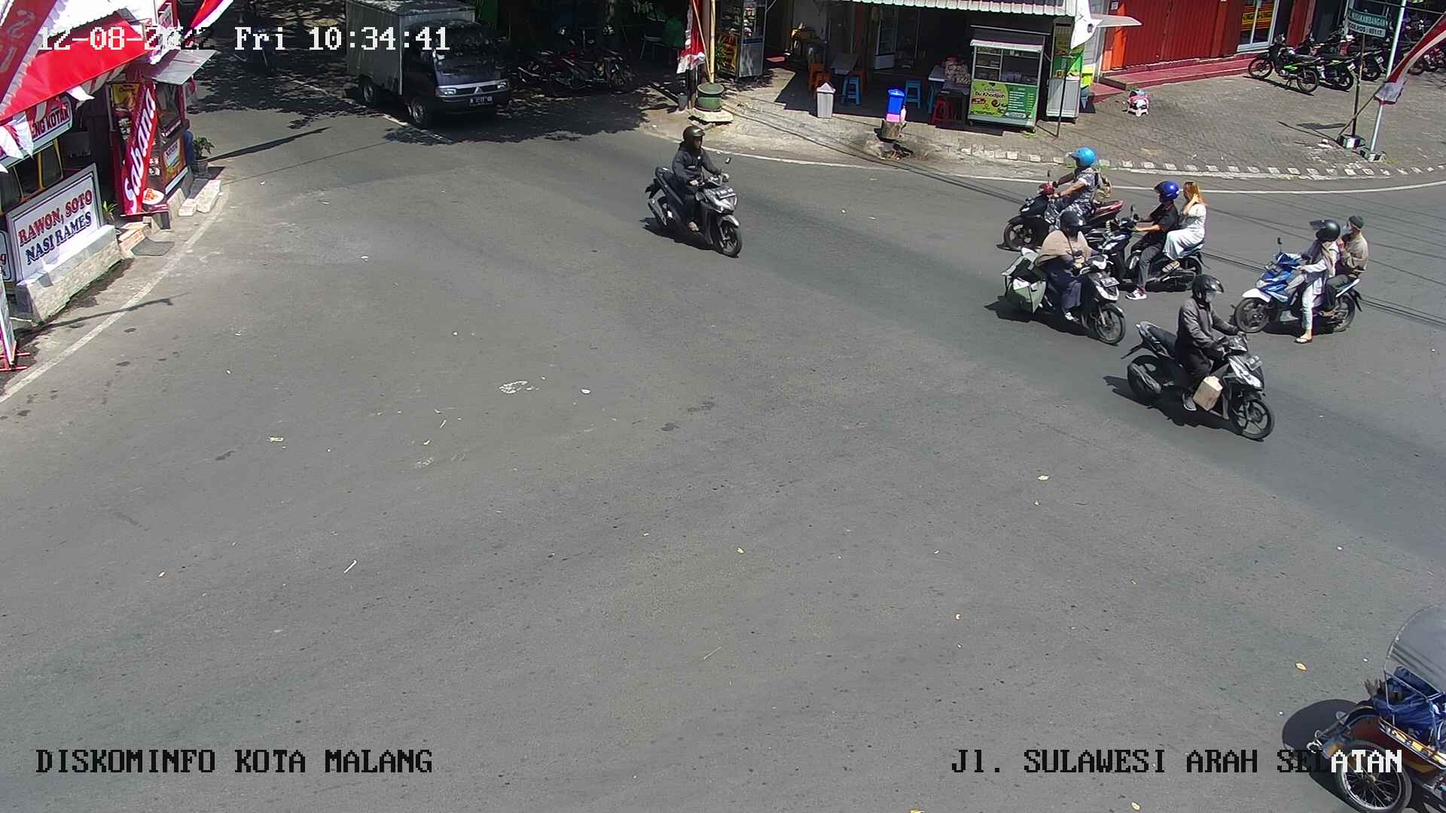with_helmet: (1121, 269, 1279, 448), (999, 209, 1133, 351), (642, 121, 752, 261), (994, 141, 1130, 238)
without_helmet: (1231, 211, 1379, 345), (1099, 172, 1218, 302)
